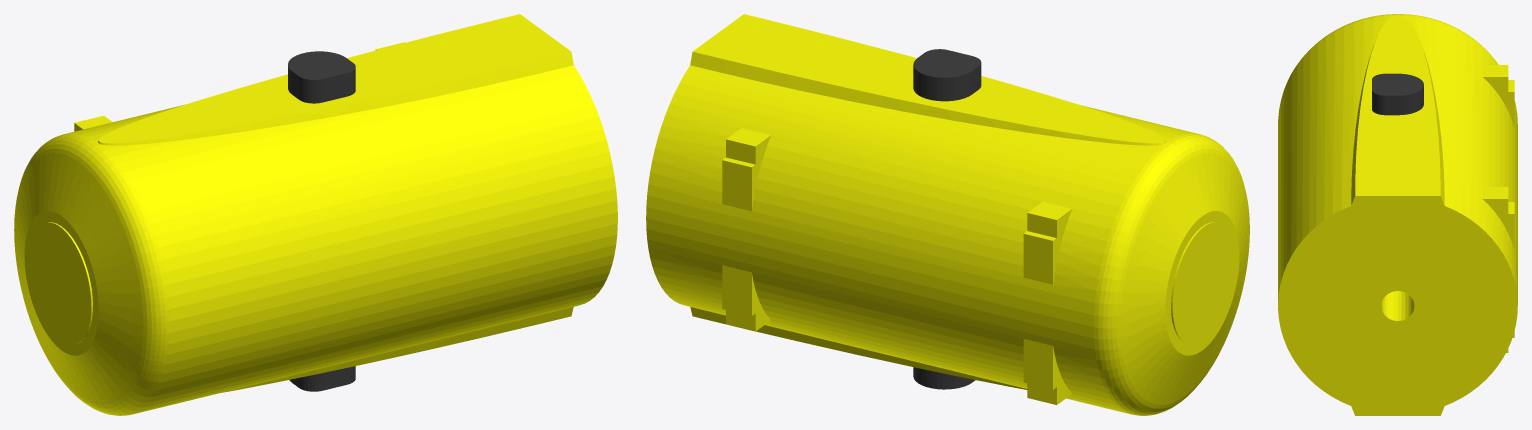
The picture shows the model from 3 angles, left to right: view 1: azimuth 30°, elevation 25°; view 2: azimuth 150°, elevation 25°; view 3: azimuth 270°, elevation 25°; orthographic projection. The views are drawn at different scales.
Visible parts, largest first — view 1: node; view 2: node; view 3: node.
Boxes of the visible parts, bbox=[...] form: node: bbox=[14, 14, 617, 415]; node: bbox=[646, 14, 1249, 415]; node: bbox=[1278, 14, 1517, 415].
Bounding box in the file's own units: 983 × 634 × 506.
